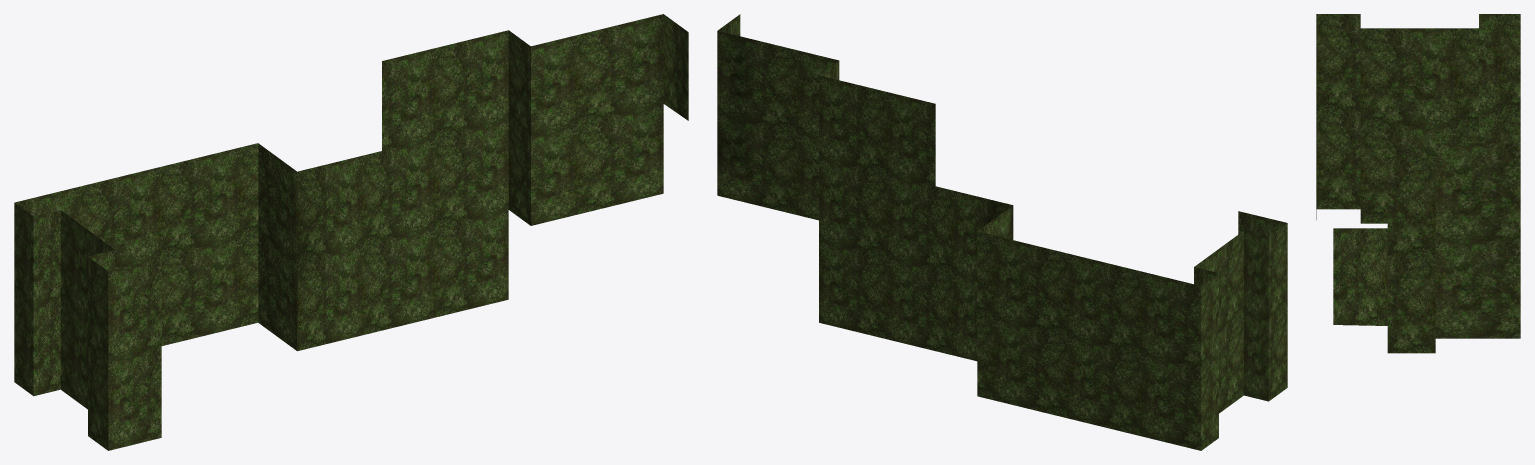
File: OVERHILL_A_01_OBJECT84.fbx
3 views of the same model, side by side, from view 1: azimuth 30°, elevation 25°; view 2: azimuth 150°, elevation 25°; view 3: azimuth 270°, elevation 25° (orthographic). The views are drawn at different scales.
Visible parts, largest first — view 1: OVERHILL_A_01_OBJECT84; view 2: OVERHILL_A_01_OBJECT84; view 3: OVERHILL_A_01_OBJECT84.
Part boxes in pixels (x1,y1,x2,y2): OVERHILL_A_01_OBJECT84: (14,14,688,450); OVERHILL_A_01_OBJECT84: (717,14,1287,450); OVERHILL_A_01_OBJECT84: (1316,14,1520,353).
Bounding box in the file's own units: 216868 × 94950 × 60000.
Materials: 1 (1 with a texture image).
